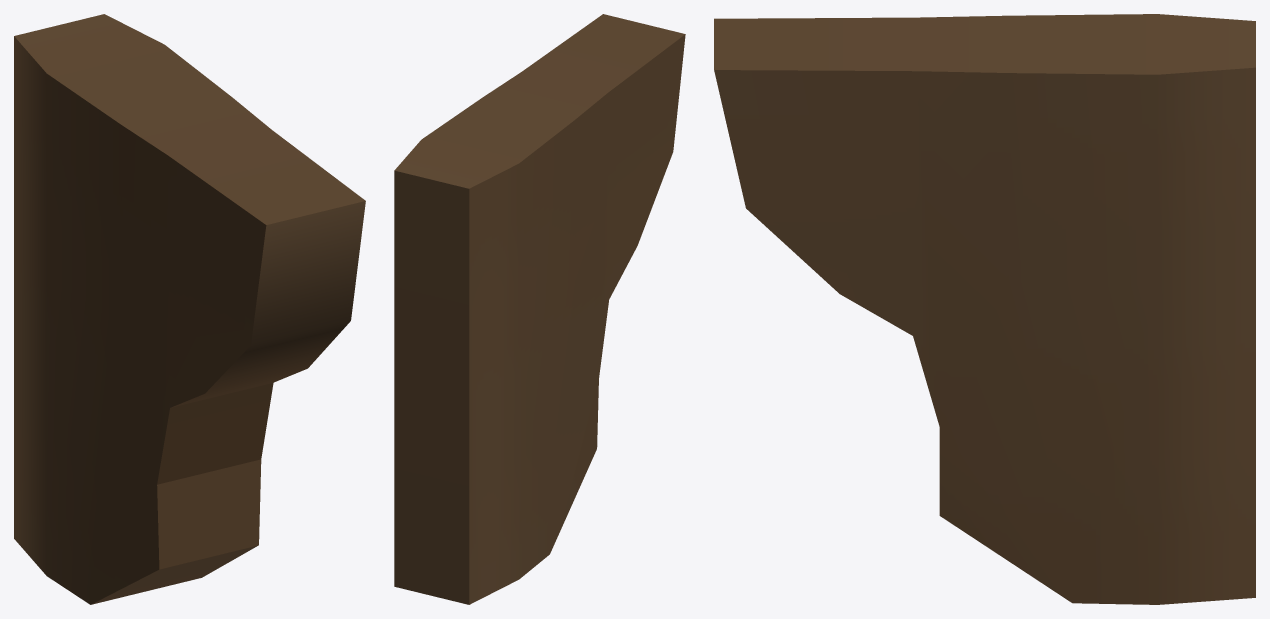
The model's file is Viga_04.fbx.
3 renders of one model, left to right at view 1: azimuth 30°, elevation 25°; view 2: azimuth 150°, elevation 25°; view 3: azimuth 270°, elevation 25°, orthographic. The views are drawn at different scales.
Parts seen in each view (by area): view 1: Cube.037; view 2: Cube.037; view 3: Cube.037.
Boxes of the visible parts, left/top/right/bottom form: Cube.037: left=14, top=14, right=365, bottom=604; Cube.037: left=394, top=14, right=685, bottom=604; Cube.037: left=714, top=14, right=1255, bottom=604.
Bounding box in the file's own units: 16.08 × 65.43 × 60.6.
